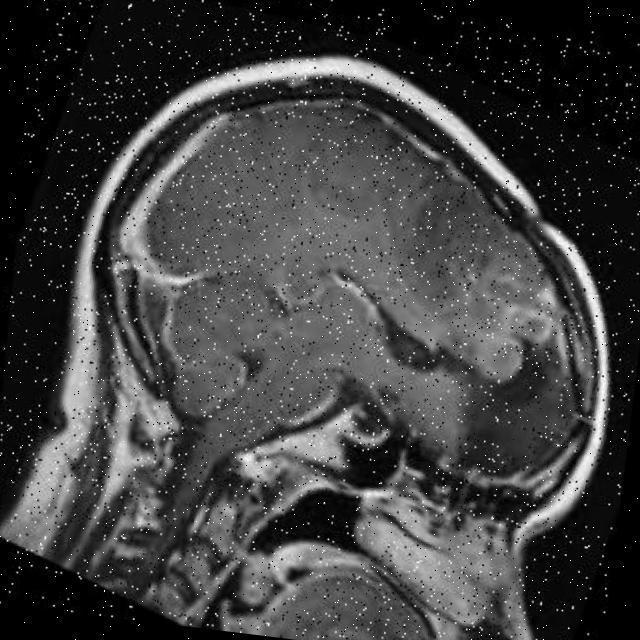CN: (383, 213, 604, 447)
